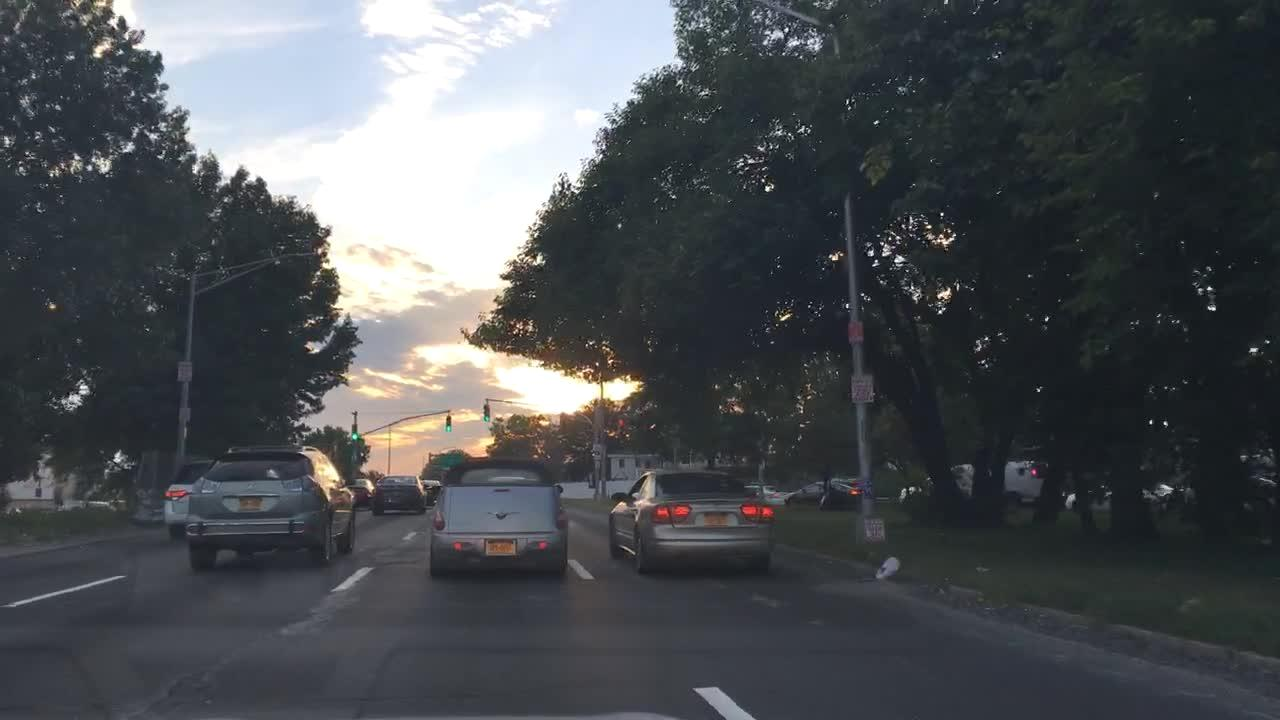mini: (484, 508, 522, 523)
